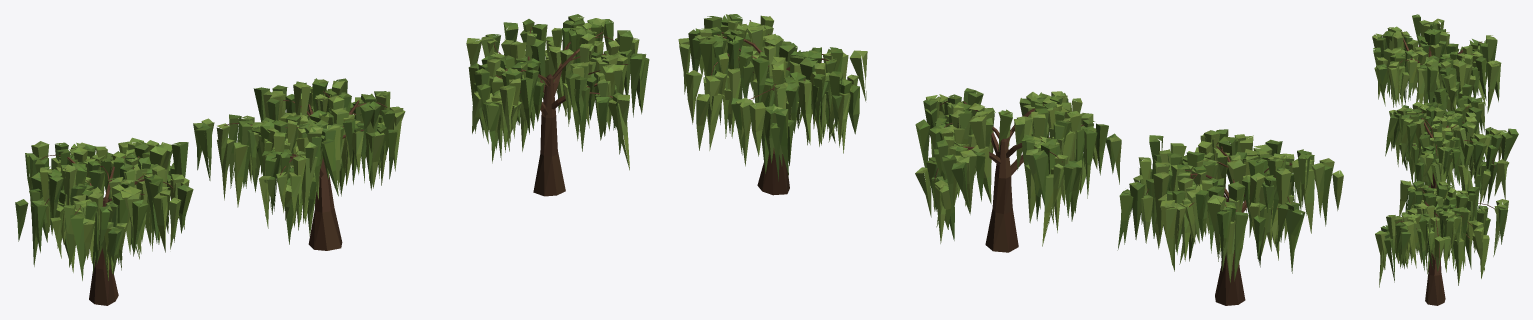
Rendered from ranvora_v2_willow.glb.
The picture shows the model from 3 angles, left to right: view 1: azimuth 30°, elevation 25°; view 2: azimuth 150°, elevation 25°; view 3: azimuth 270°, elevation 25°; orthographic projection. The views are drawn at different scales.
Visible parts, largest first — view 1: willow_B_mesh, willow_C_mesh, willow_A_mesh; view 2: willow_A_mesh, willow_B_mesh, willow_C_mesh; view 3: willow_C_mesh, willow_B_mesh, willow_A_mesh.
Part boxes in pixels (<box>): willow_B_mesh: <box>193,78,405,250</box>; willow_C_mesh: <box>466,14,649,196</box>; willow_A_mesh: <box>15,137,193,305</box>; willow_A_mesh: <box>1117,129,1343,305</box>; willow_B_mesh: <box>915,88,1121,252</box>; willow_C_mesh: <box>678,14,867,195</box>; willow_C_mesh: <box>1375,180,1508,305</box>; willow_B_mesh: <box>1385,97,1518,205</box>; willow_A_mesh: <box>1372,14,1501,122</box>.
Bounding box in the file's own units: 22.18 × 5.16 × 6.27.
